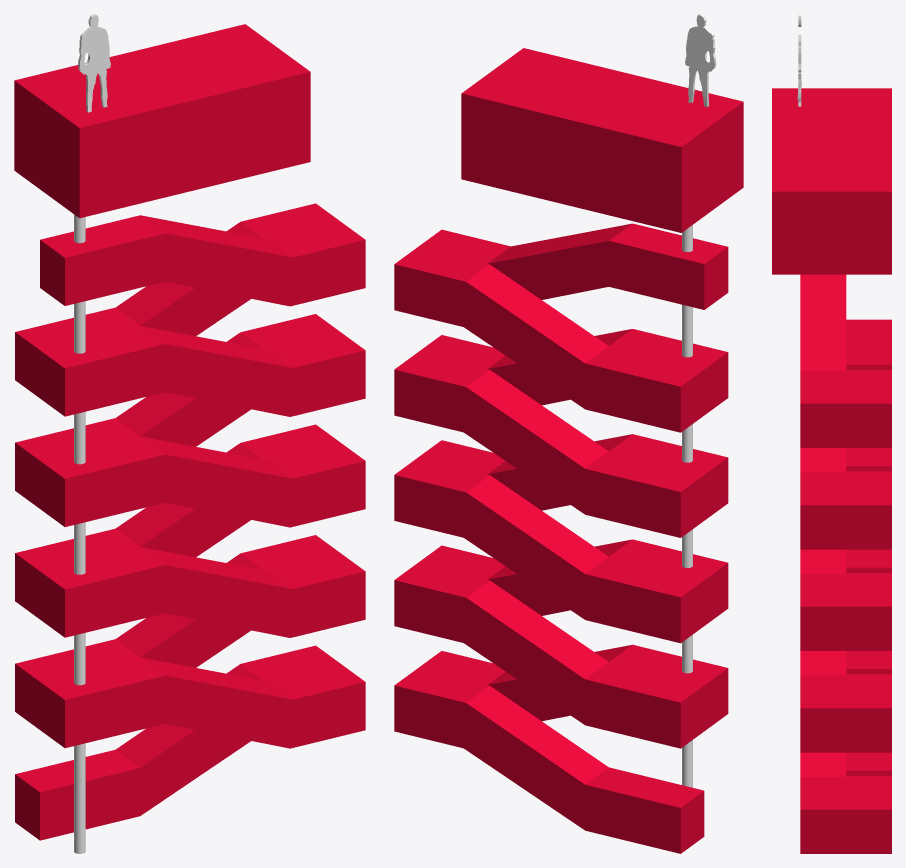
Rendered from export-for-the-site-3d-test.glb.
3 renders of one model, left to right at view 1: azimuth 30°, elevation 25°; view 2: azimuth 150°, elevation 25°; view 3: azimuth 270°, elevation 25°, orthographic. The views are drawn at different scales.
Bounding box in the file's own units: 20.48 × 55 × 7.68.
